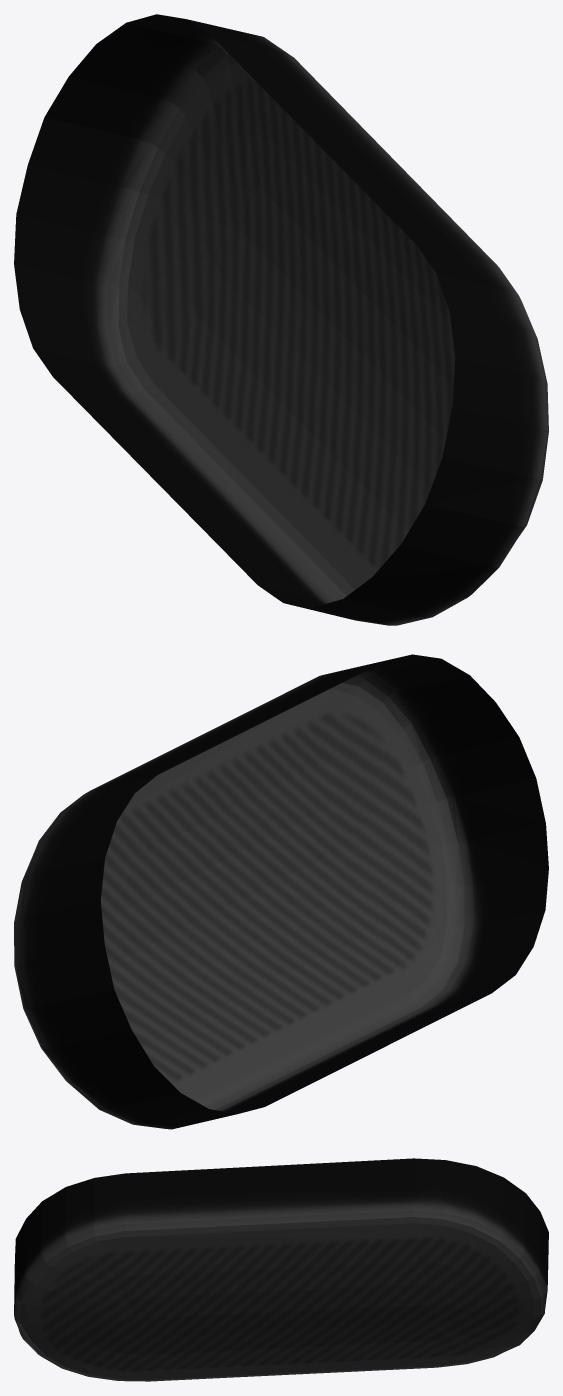
Rendered from r_grip0.obj.
The picture shows the model from 3 angles, top to bottom: view 1: azimuth 30°, elevation 25°; view 2: azimuth 150°, elevation 25°; view 3: azimuth 270°, elevation 25°; orthographic projection. The views are drawn at different scales.
Size of the model in its own units: 0.0101 by 0.0151 by 0.0296.
Materials: 1 (1 with a texture image).
